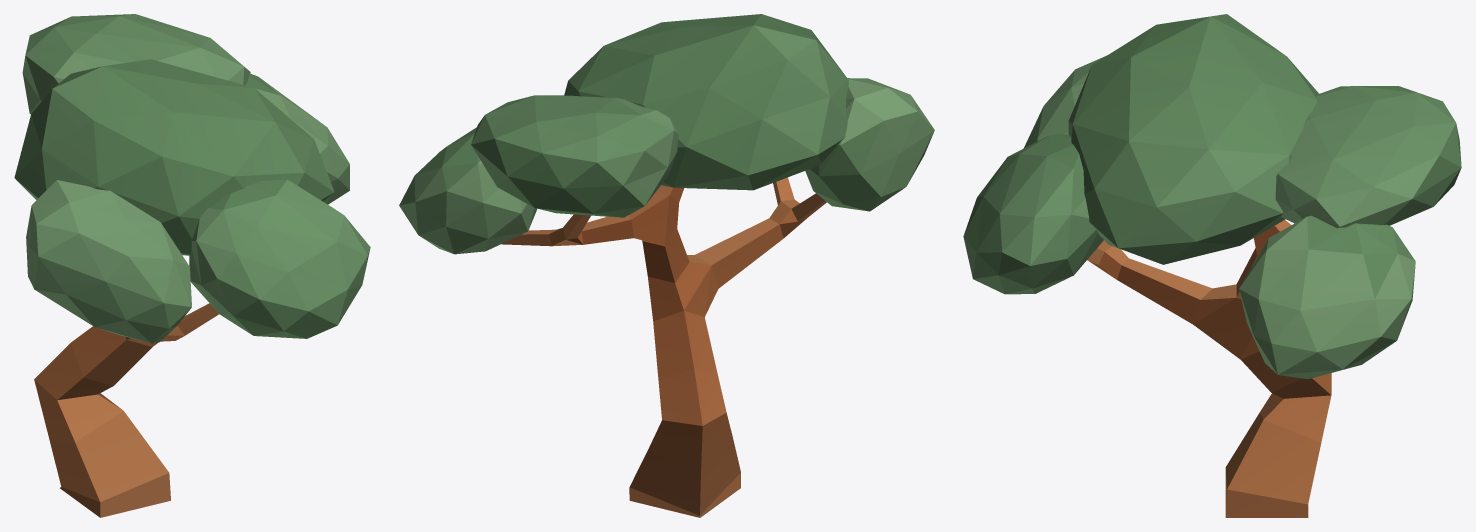
Rendered from pohon 2.fbx.
3 views of the same model, side by side, from view 1: azimuth 30°, elevation 25°; view 2: azimuth 150°, elevation 25°; view 3: azimuth 270°, elevation 25° (orthographic).
Parts seen in each view (by area): view 1: pohon 2; view 2: pohon 2; view 3: pohon 2.
Boxes of the visible parts, x1,y1,x2,y2 form: pohon 2: (14, 14, 370, 517); pohon 2: (399, 14, 934, 517); pohon 2: (963, 14, 1461, 517).
Size of the model in its own units: 247 by 265 by 258.
